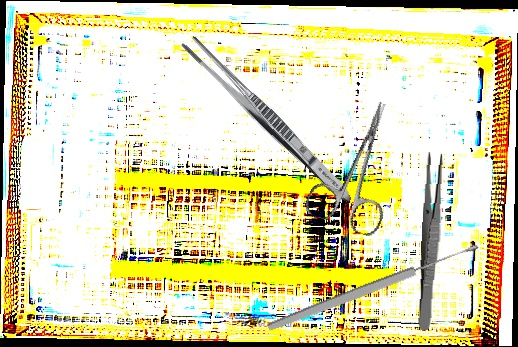Dressing Forceps: (177, 32, 359, 208), (416, 152, 446, 331)
Iris Scissors: (302, 90, 422, 239)
Surgical Spoon: (265, 240, 481, 335)
